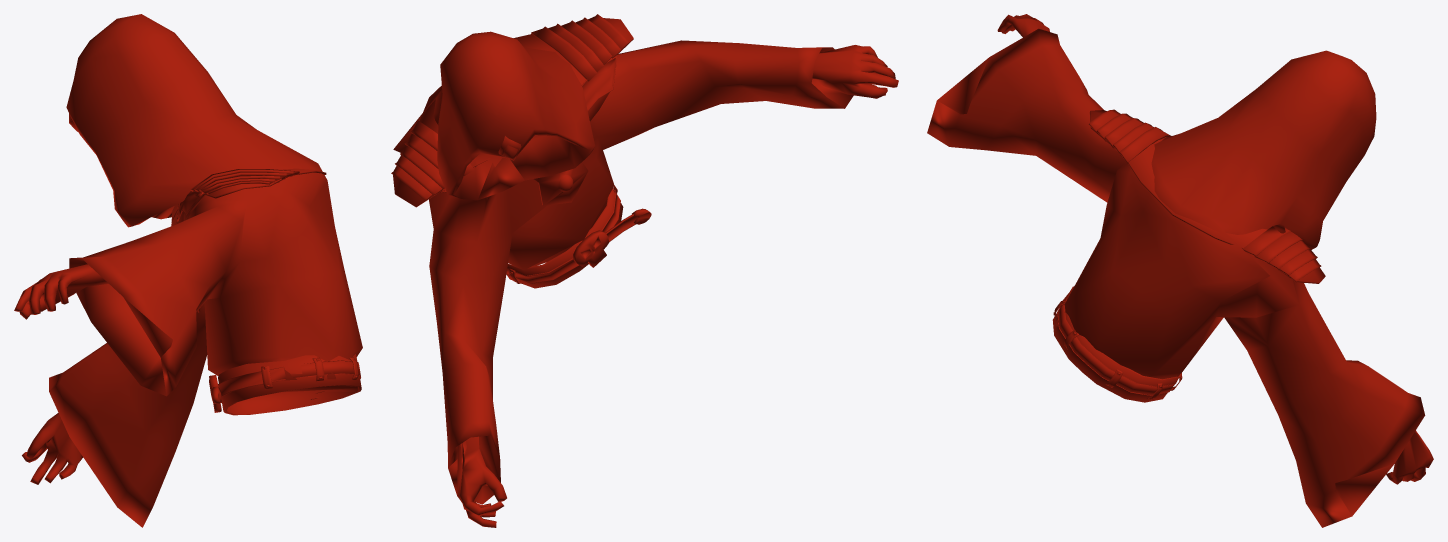
File: top_000047.obj
The picture shows the model from 3 angles, left to right: view 1: azimuth 30°, elevation 25°; view 2: azimuth 150°, elevation 25°; view 3: azimuth 270°, elevation 25°; orthographic projection. The views are drawn at different scales.
Visible parts, largest first — view 1: LowPoly_Warlock.000_Plane.005; view 2: LowPoly_Warlock.000_Plane.005; view 3: LowPoly_Warlock.000_Plane.005.
Part boxes in pixels (left/top/right/bottom): LowPoly_Warlock.000_Plane.005: left=14, top=14, right=362, bottom=527; LowPoly_Warlock.000_Plane.005: left=391, top=14, right=898, bottom=527; LowPoly_Warlock.000_Plane.005: left=927, top=14, right=1433, bottom=527.
Size of the model in its own units: 1.21 by 1.43 by 1.39.
